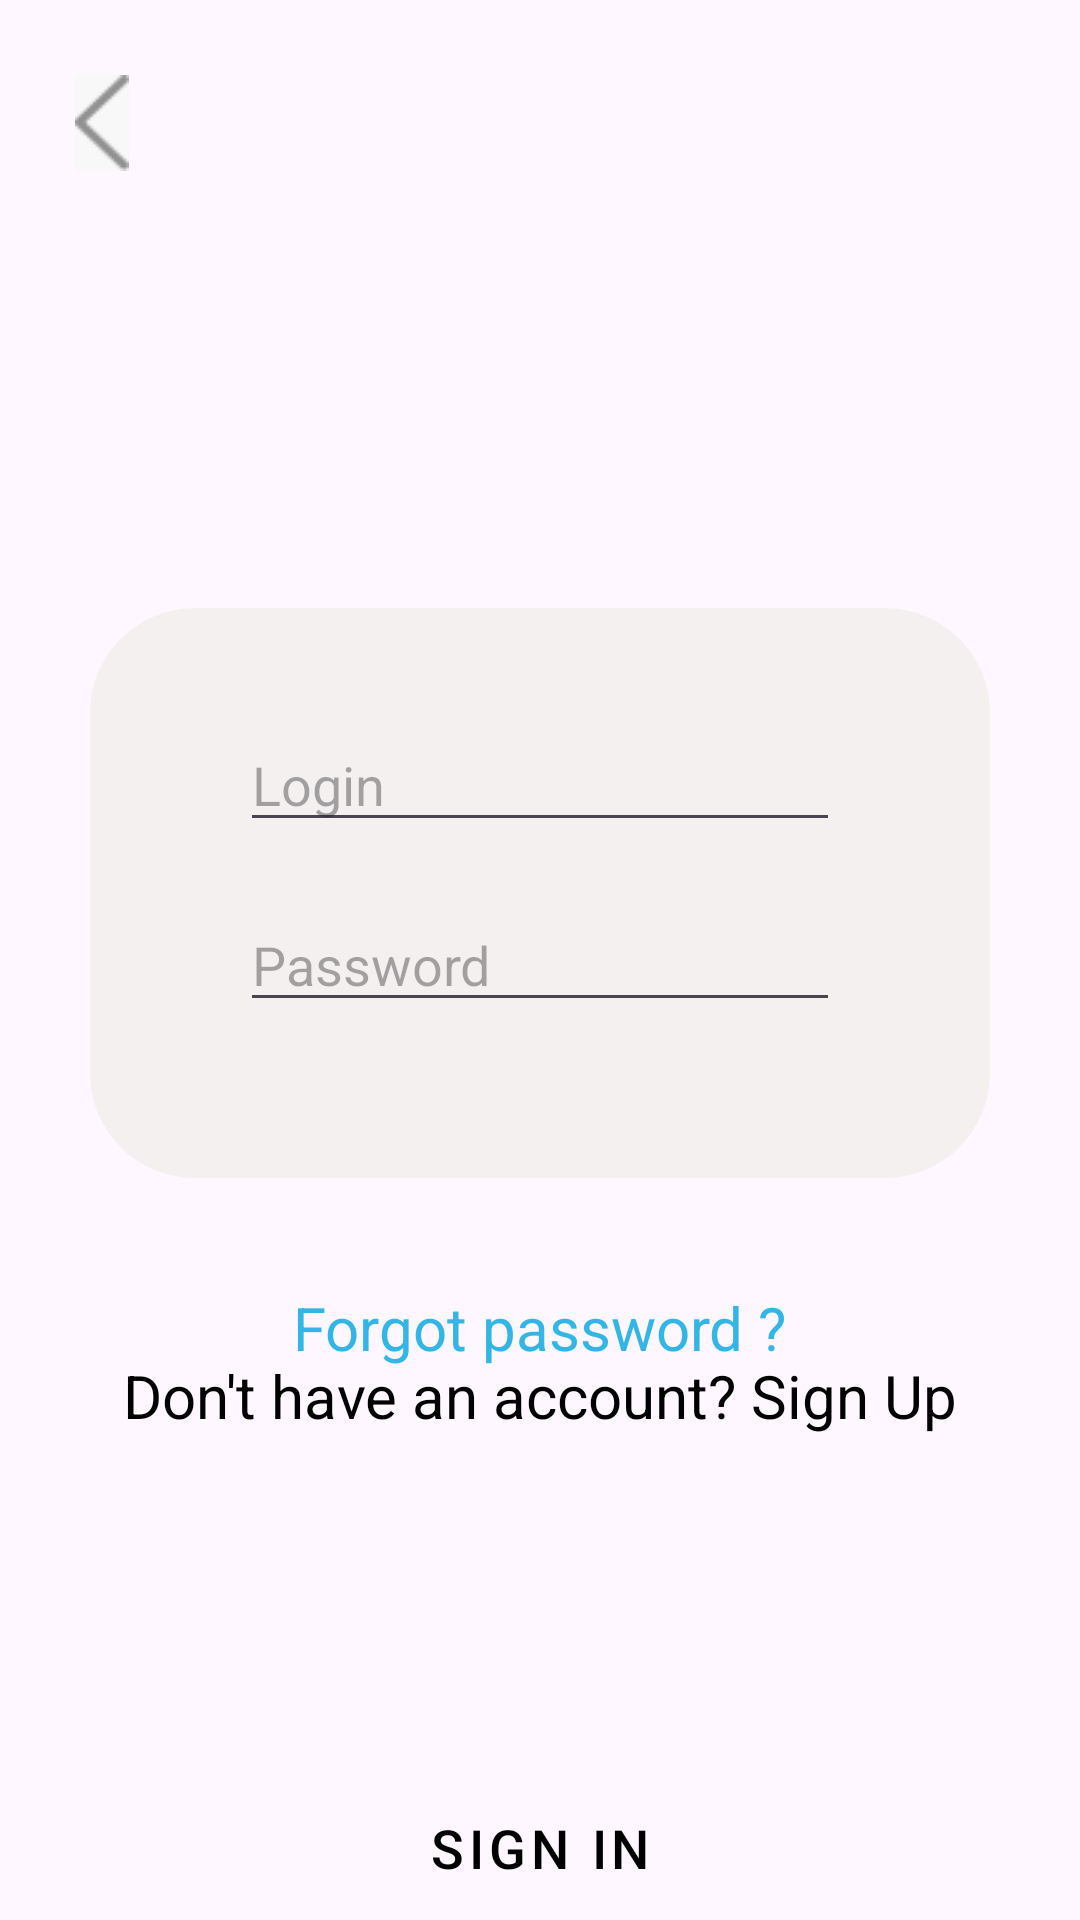

Named icons in this screenshot (1080px x 1920px) and their centers, (x,y):
back: (102,123)
